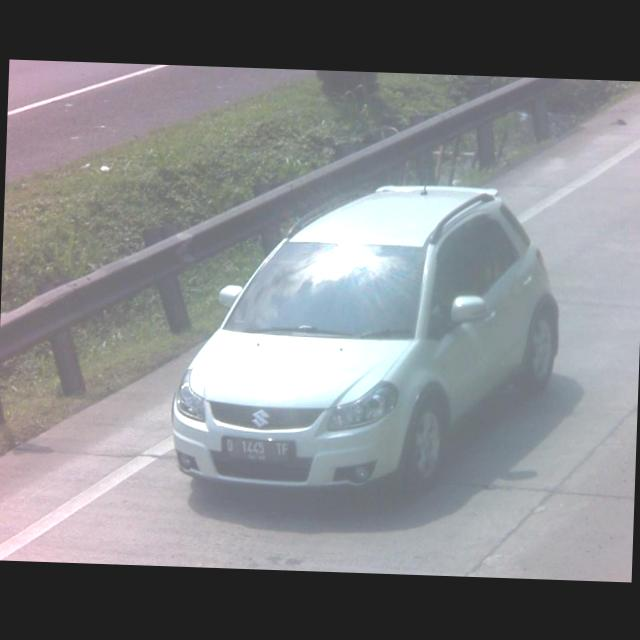plate: (220, 435, 293, 465)
